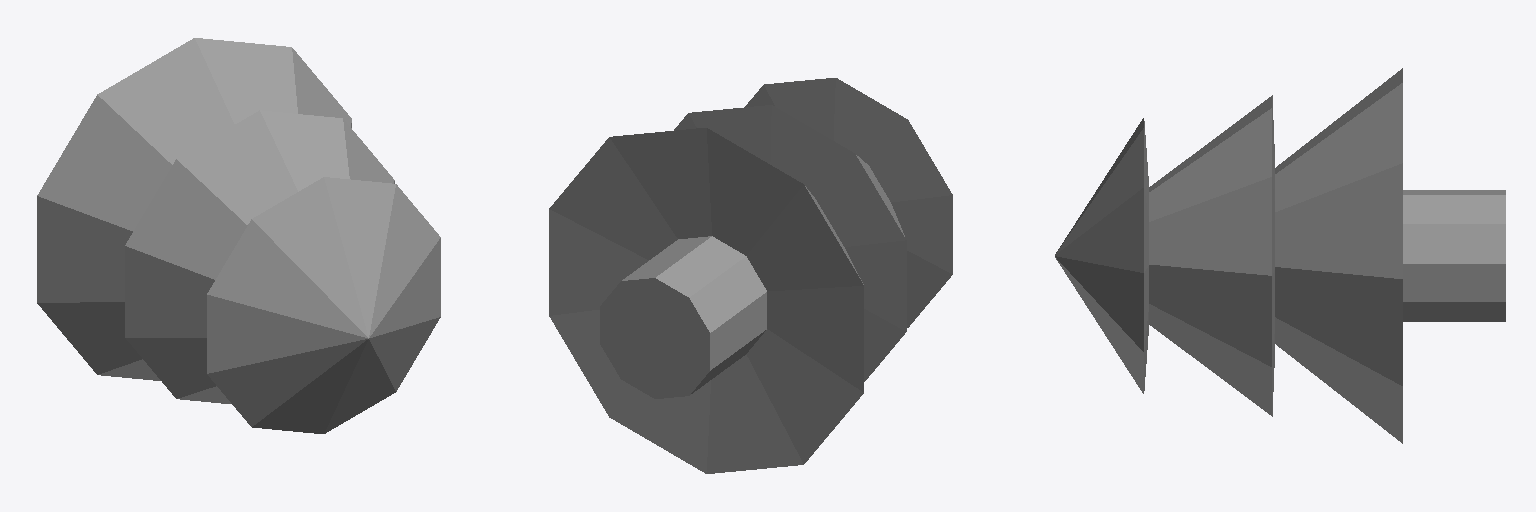
Rendered from tree.obj.
3 renders of one model, left to right at view 1: azimuth 30°, elevation 25°; view 2: azimuth 150°, elevation 25°; view 3: azimuth 270°, elevation 25°, orthographic.
Parts seen in each view (by area): view 1: tree_Cylinder; view 2: tree_Cylinder; view 3: tree_Cylinder.
Boxes of the visible parts, x1=… form: tree_Cylinder: x1=37, y1=38, x2=440, y2=433; tree_Cylinder: x1=549, y1=78, x2=952, y2=473; tree_Cylinder: x1=1055, y1=68, x2=1505, y2=443.
Size of the model in its own units: 2.56 by 2.69 by 3.18.